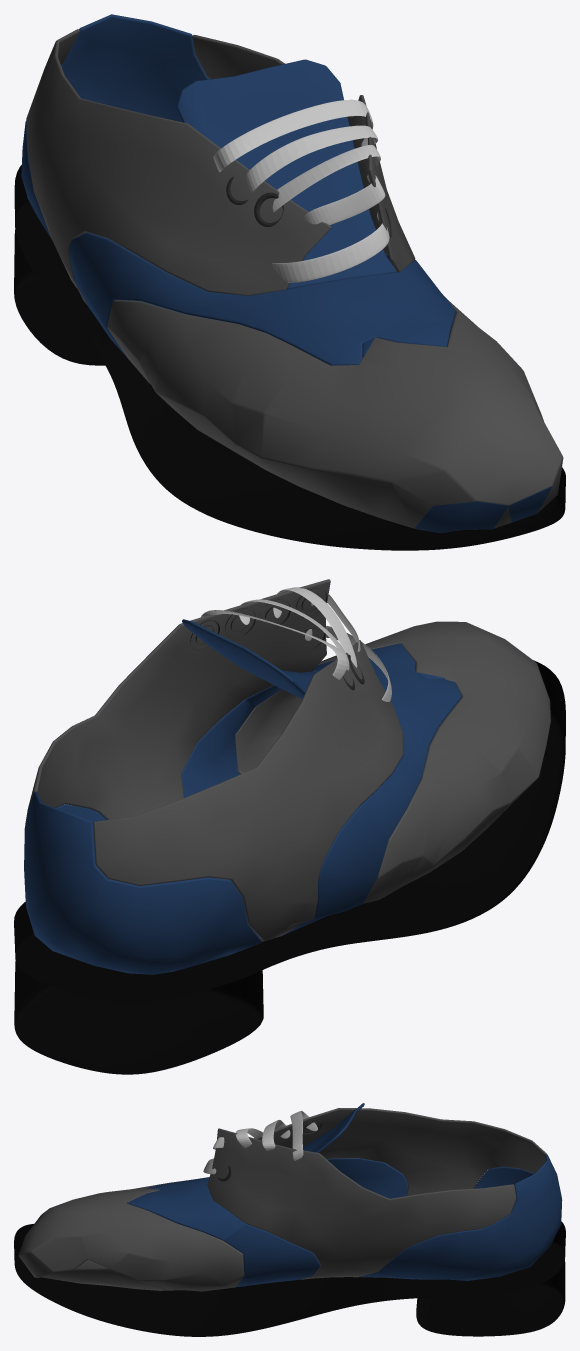
The model's file is za2ot2derecha.fbx.
The picture shows the model from 3 angles, top to bottom: view 1: azimuth 30°, elevation 25°; view 2: azimuth 150°, elevation 25°; view 3: azimuth 270°, elevation 25°; orthographic projection. The views are drawn at different scales.
Visible parts, largest first — view 1: zapato2, Plane, Plane.004, Plane.005, Plane.003, Plane.001, Plane.002; view 2: zapato2, Plane, Plane.001, Plane.004; view 3: zapato2, Plane, Plane.004, Plane.003, Plane.001.
Part boxes in pixels (x1=…): zapato2: x1=21, y1=14, x2=563, y2=532; Plane: x1=14, y1=165, x2=565, y2=550; Plane.004: x1=213, y1=99, x2=373, y2=171; Plane.005: x1=272, y1=212, x2=389, y2=282; Plane.003: x1=246, y1=125, x2=377, y2=192; Plane.001: x1=272, y1=145, x2=380, y2=211; Plane.002: x1=303, y1=174, x2=385, y2=225; zapato2: x1=24, y1=579, x2=550, y2=974; Plane: x1=14, y1=660, x2=565, y2=1074; Plane.001: x1=273, y1=587, x2=357, y2=667; Plane.004: x1=200, y1=610, x2=347, y2=679; zapato2: x1=18, y1=1103, x2=562, y2=1291; Plane: x1=14, y1=1221, x2=565, y2=1336; Plane.004: x1=290, y1=1110, x2=317, y2=1160; Plane.003: x1=262, y1=1119, x2=290, y2=1150; Plane.001: x1=235, y1=1128, x2=262, y2=1148.
Bounding box in the file's own units: 169 × 176 × 447.
